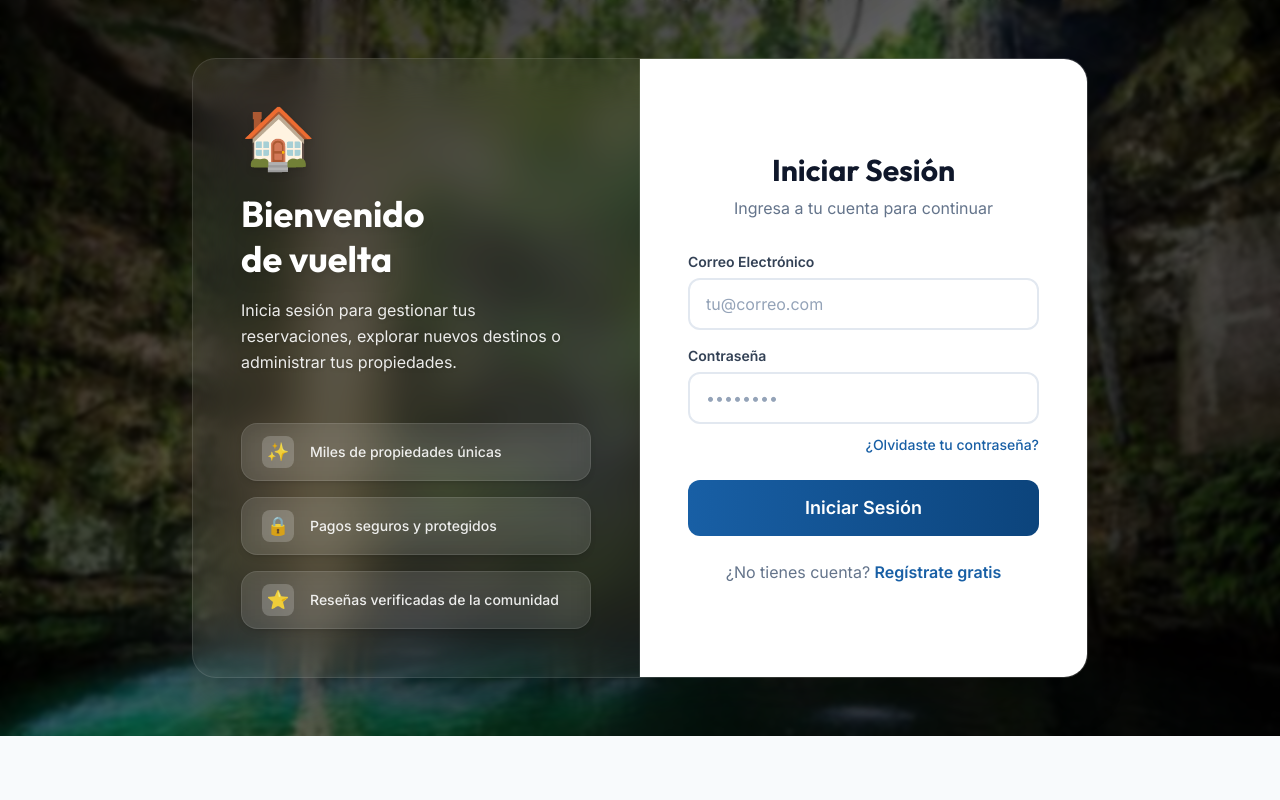
Test: Página de Login › muestra error si se envía sin email
Click the button "Iniciar Sesión": (864, 508) [688, 480, 1039, 536]
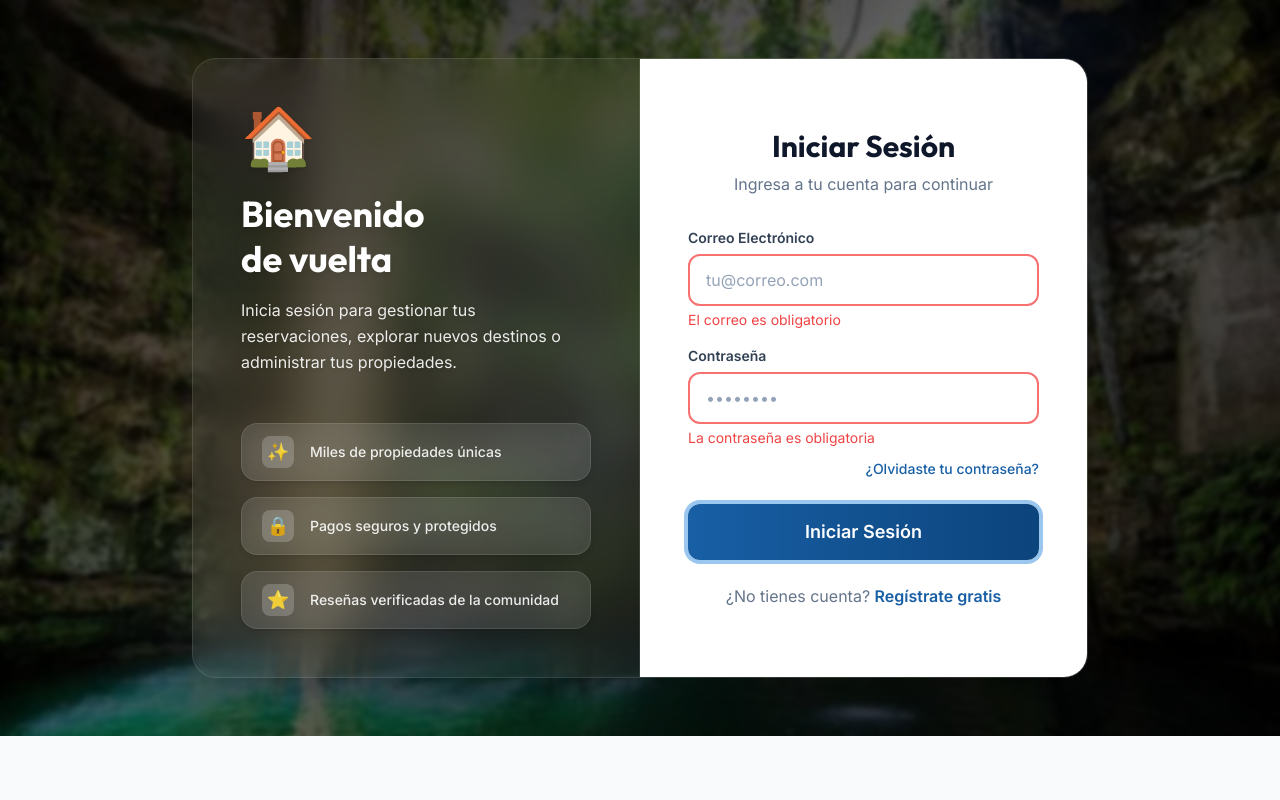
expect the text "El correo es obligatorio" is shown: met, box [688, 311, 841, 328]
